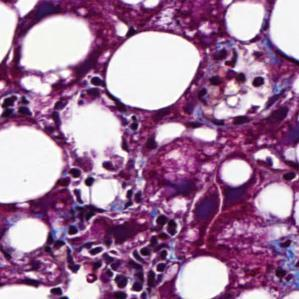inflammation: (116, 213, 184, 276), (189, 47, 247, 104), (53, 170, 97, 208), (271, 229, 299, 286), (61, 241, 105, 273), (0, 90, 35, 122)
